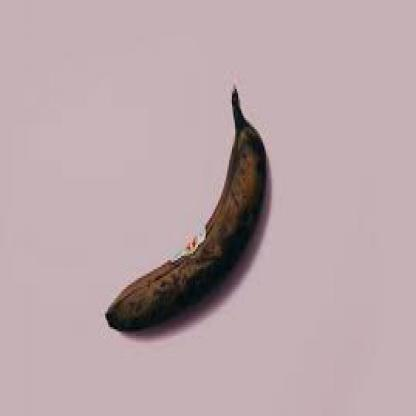banana_rotten: (75, 67, 306, 345)
